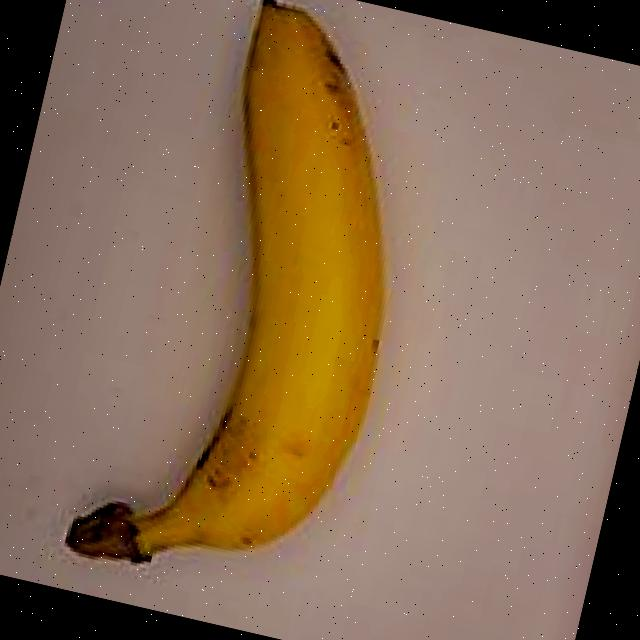Ripe: (25, 0, 460, 624)
